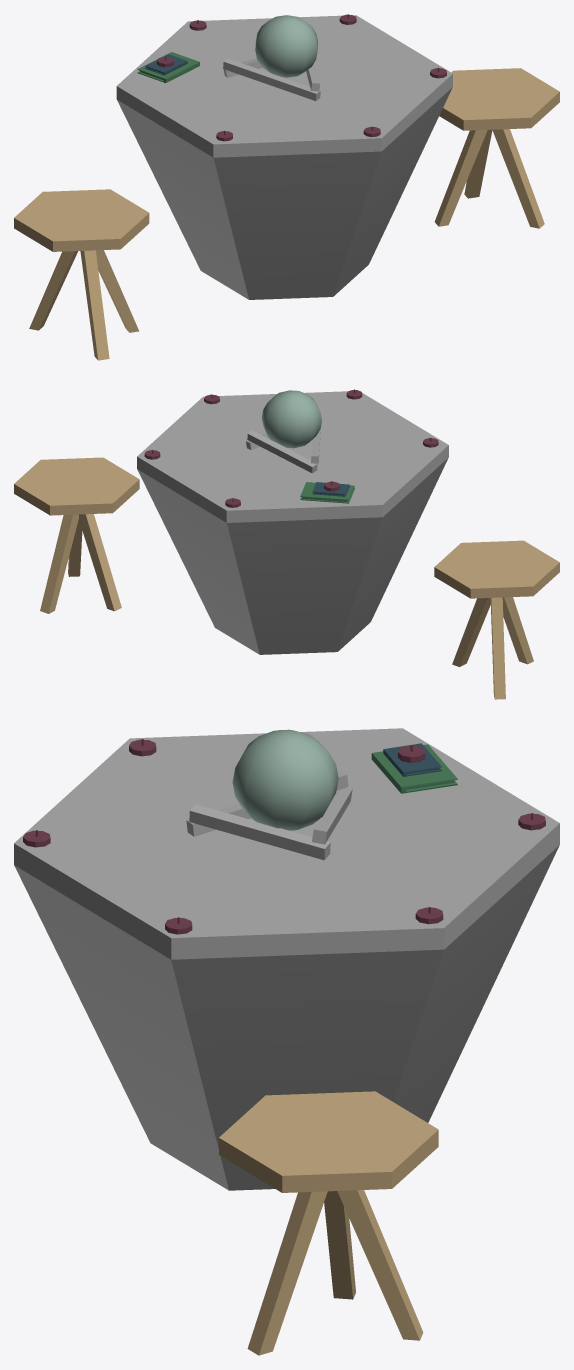
Rendered from Mesa1.fbx.
3 renders of one model, top to bottom at view 1: azimuth 30°, elevation 25°; view 2: azimuth 150°, elevation 25°; view 3: azimuth 270°, elevation 25°, orthographic. The views are drawn at different scales.
Parts seen in each view (by area): view 1: polySurface4505; view 2: polySurface4505; view 3: polySurface4505.
Boxes of the visible parts, x1,y1,x2,y2 form: polySurface4505: (14, 14, 559, 360); polySurface4505: (14, 389, 559, 699); polySurface4505: (14, 728, 559, 1355).
Size of the model in its own units: 284 by 132 by 154.
